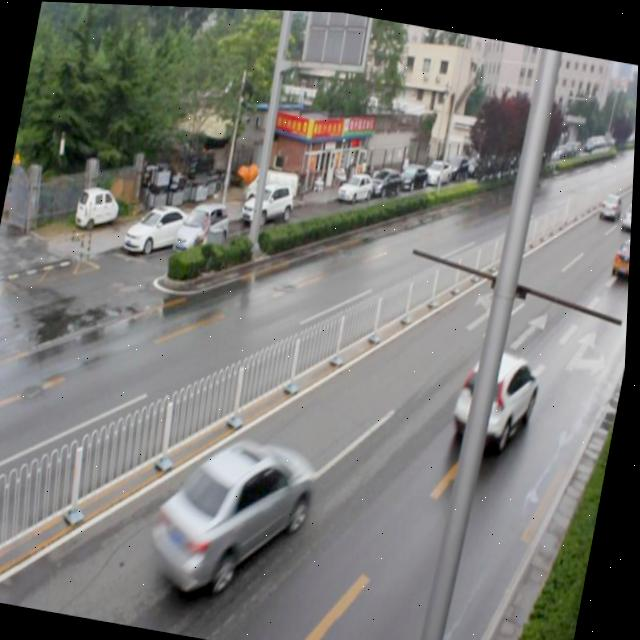car: (148, 419, 325, 603), (453, 339, 547, 451), (610, 227, 633, 278), (598, 188, 622, 218), (622, 195, 634, 229)
